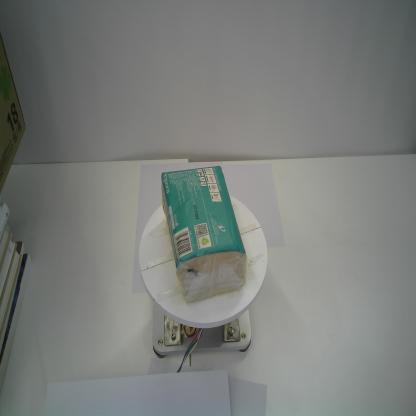Tissue: (160, 164, 247, 304)
